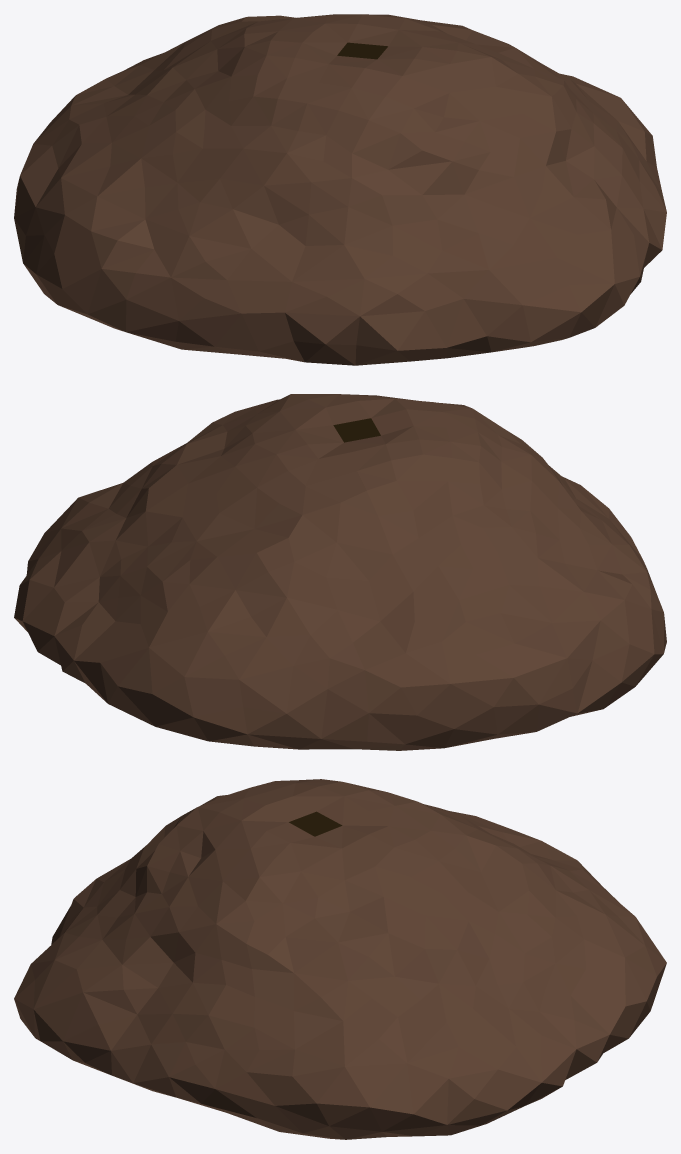
The model's file is Colony.fbx.
3 views of the same model, one above another, from view 1: azimuth 30°, elevation 25°; view 2: azimuth 150°, elevation 25°; view 3: azimuth 270°, elevation 25° (orthographic). The views are drawn at different scales.
Parts seen in each view (by area): view 1: Cube; view 2: Cube; view 3: Cube.
Part boxes in pixels (left/top/right/bottom): Cube: left=14, top=14, right=666, bottom=365; Cube: left=14, top=394, right=666, bottom=750; Cube: left=14, top=779, right=666, bottom=1139.
Size of the model in its own units: 297 by 121 by 296.
